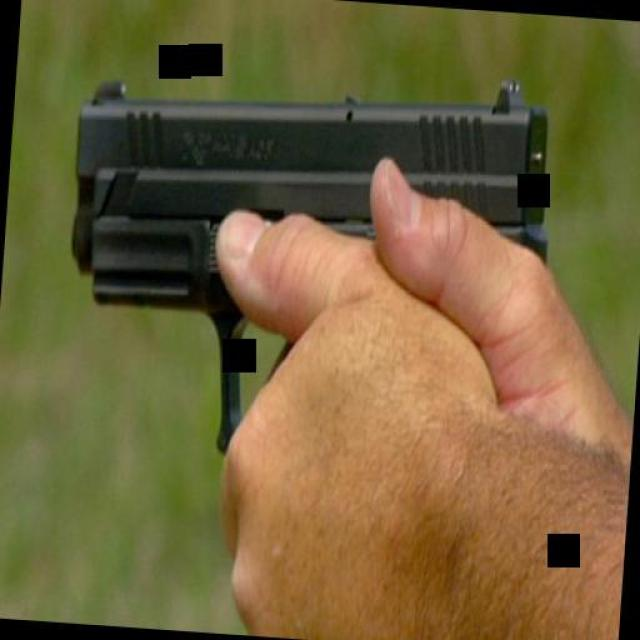gun: (44, 29, 564, 525)
